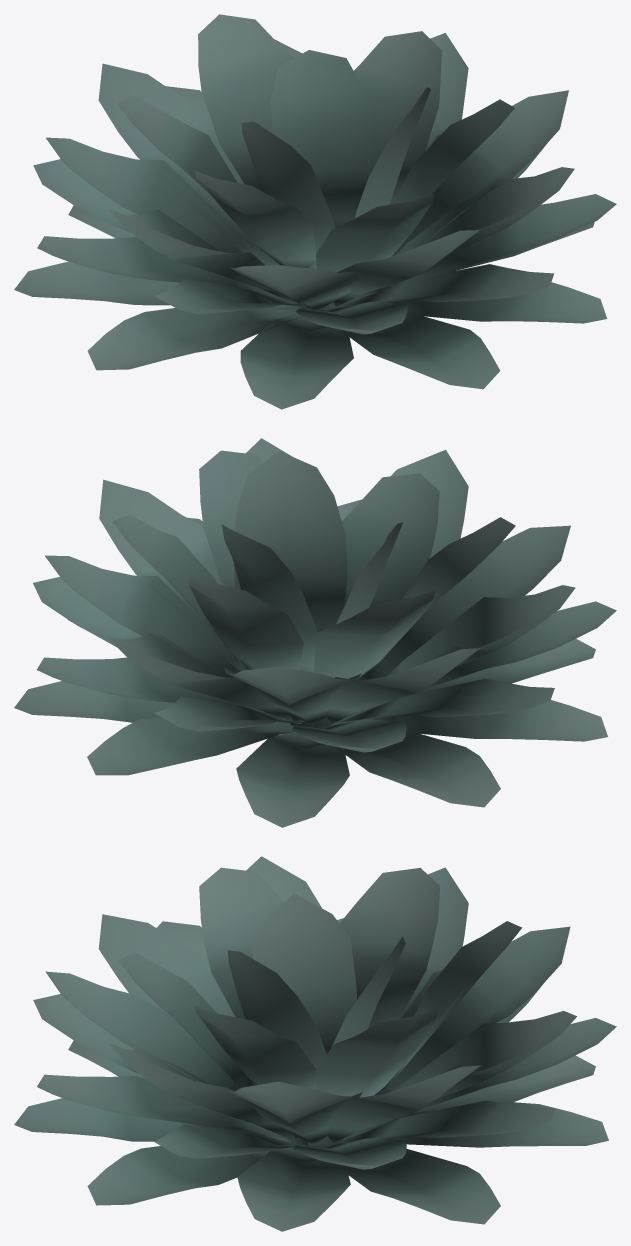
File: plants-cacti-succulents-blue-echeveria_v3.glb
The picture shows the model from 3 angles, top to bottom: view 1: azimuth 30°, elevation 25°; view 2: azimuth 150°, elevation 25°; view 3: azimuth 270°, elevation 25°; orthographic projection.
Visible parts, largest first — view 1: Blue Echeveria_v3; view 2: Blue Echeveria_v3; view 3: Blue Echeveria_v3.
Part boxes in pixels (<box>): Blue Echeveria_v3: <box>14,14,616,409</box>; Blue Echeveria_v3: <box>14,438,616,827</box>; Blue Echeveria_v3: <box>14,856,616,1231</box>.
Size of the model in its own units: 0.1987 by 0.1101 by 0.2.
